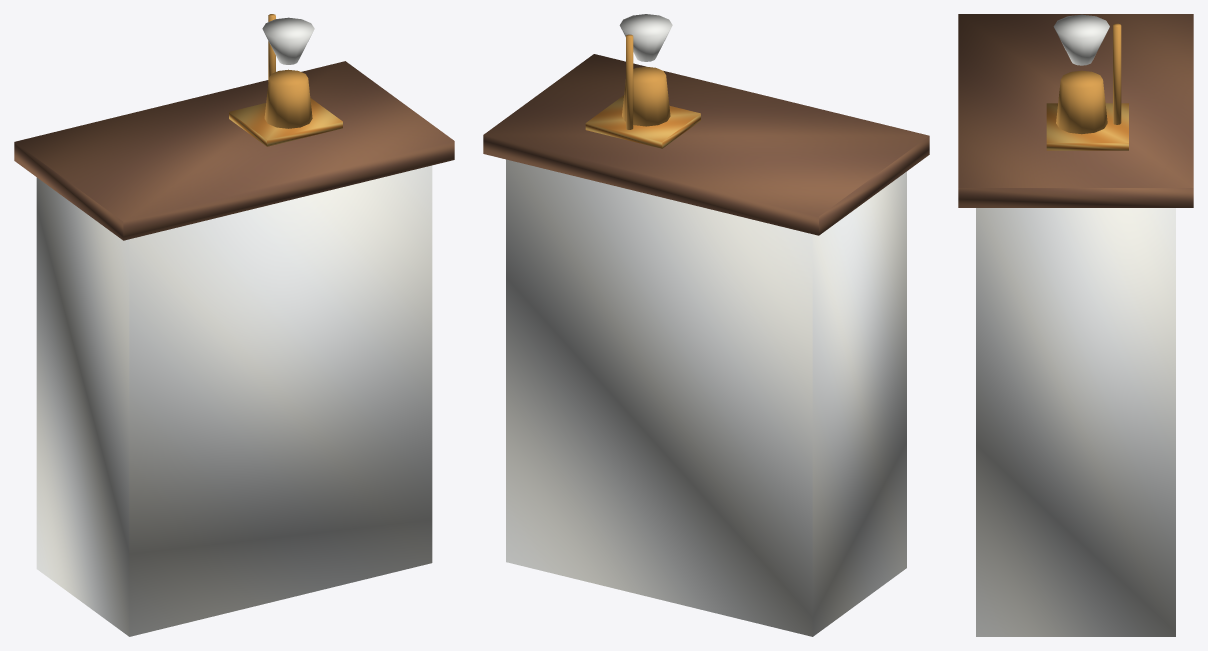
File: atelier-drip-counter.glb
3 renders of one model, left to right at view 1: azimuth 30°, elevation 25°; view 2: azimuth 150°, elevation 25°; view 3: azimuth 270°, elevation 25°, orthographic. The views are drawn at different scales.
Parts seen in each view (by area): view 1: TS_StageProp_atelier-drip-counter; view 2: TS_StageProp_atelier-drip-counter; view 3: TS_StageProp_atelier-drip-counter.
Boxes of the visible parts, <box> form: TS_StageProp_atelier-drip-counter: <box>14,14,454,636</box>; TS_StageProp_atelier-drip-counter: <box>483,14,929,636</box>; TS_StageProp_atelier-drip-counter: <box>958,14,1193,636</box>.
Size of the model in its own units: 0.7 by 1.05 by 0.4.
Materials: 1 (1 with a texture image).
